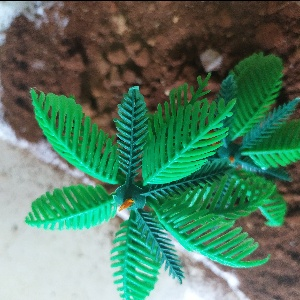plant: (17, 66, 300, 298)
